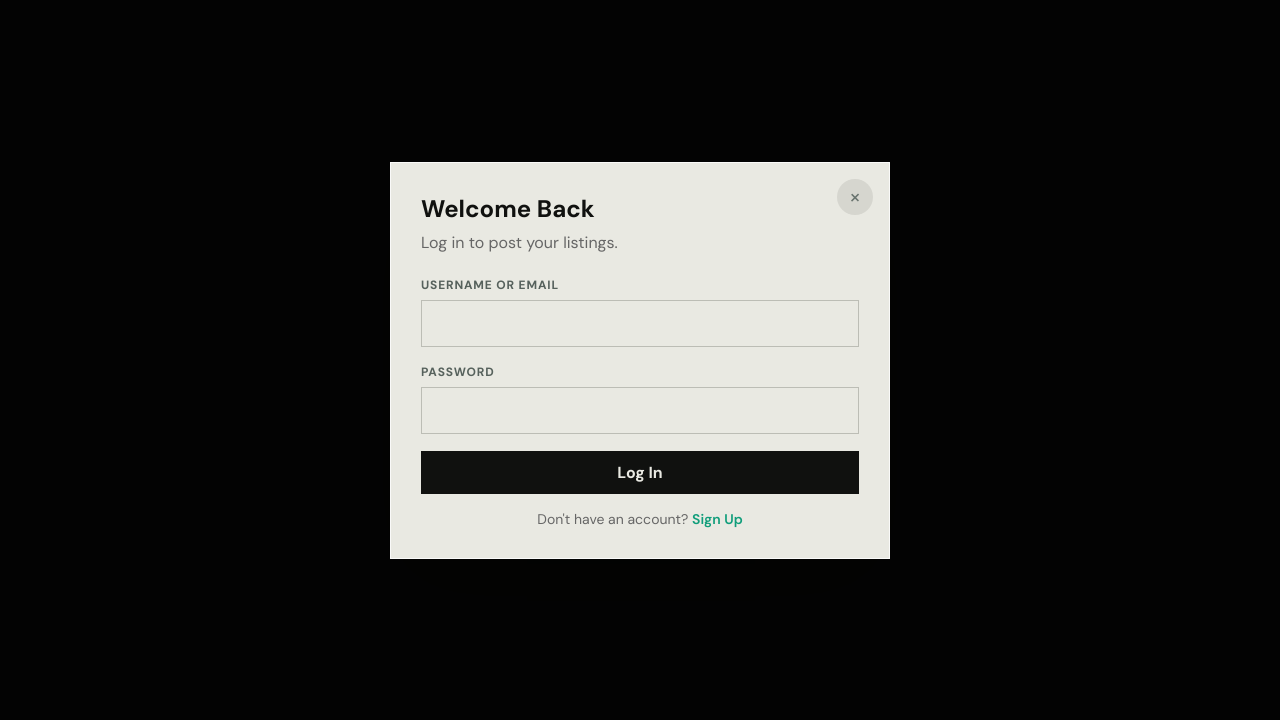
Scenario: authentication UI › exposes an accessible login dialog and displays the server error
This screenshot has width=1280, height=720.
Expected: the dialog "Welcome Back" is shown, [390, 162, 890, 558]
Type "unknown" into the field labelled "Username or email" at (640, 323), box [421, 300, 859, 346]
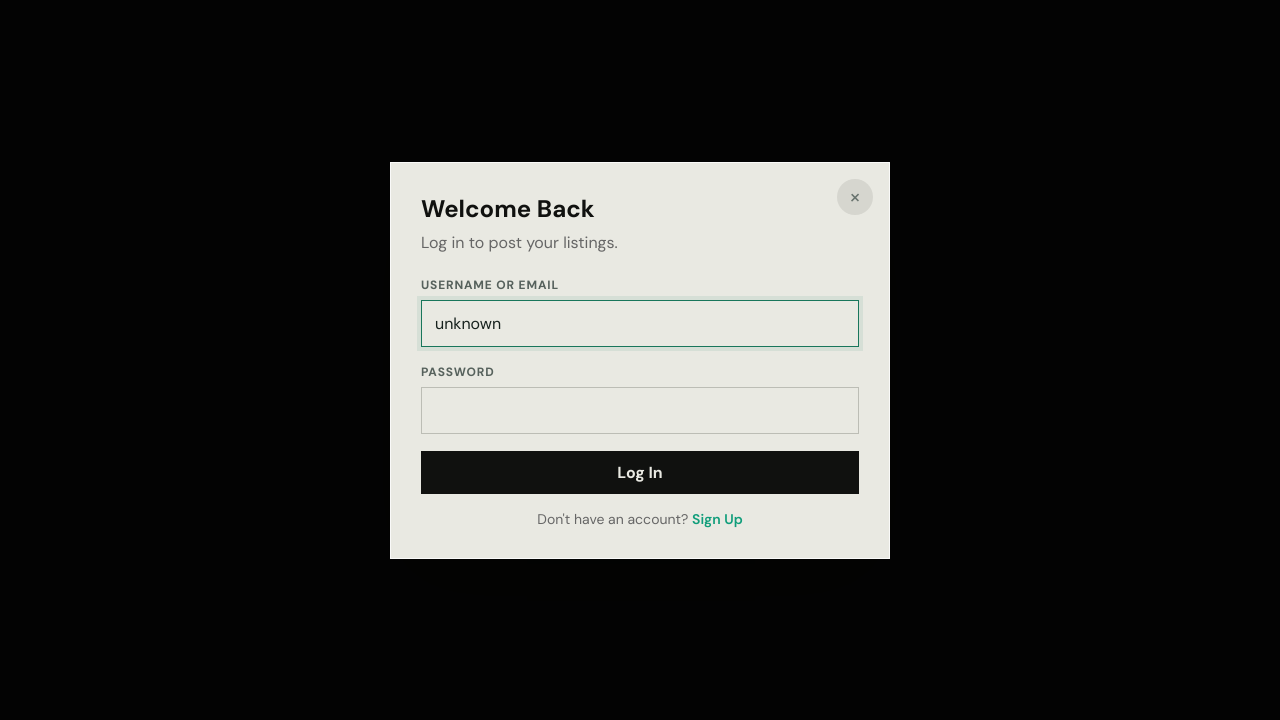
Type "incorrect-password" into the password field labelled "Password" at (640, 410), box [421, 386, 859, 434]
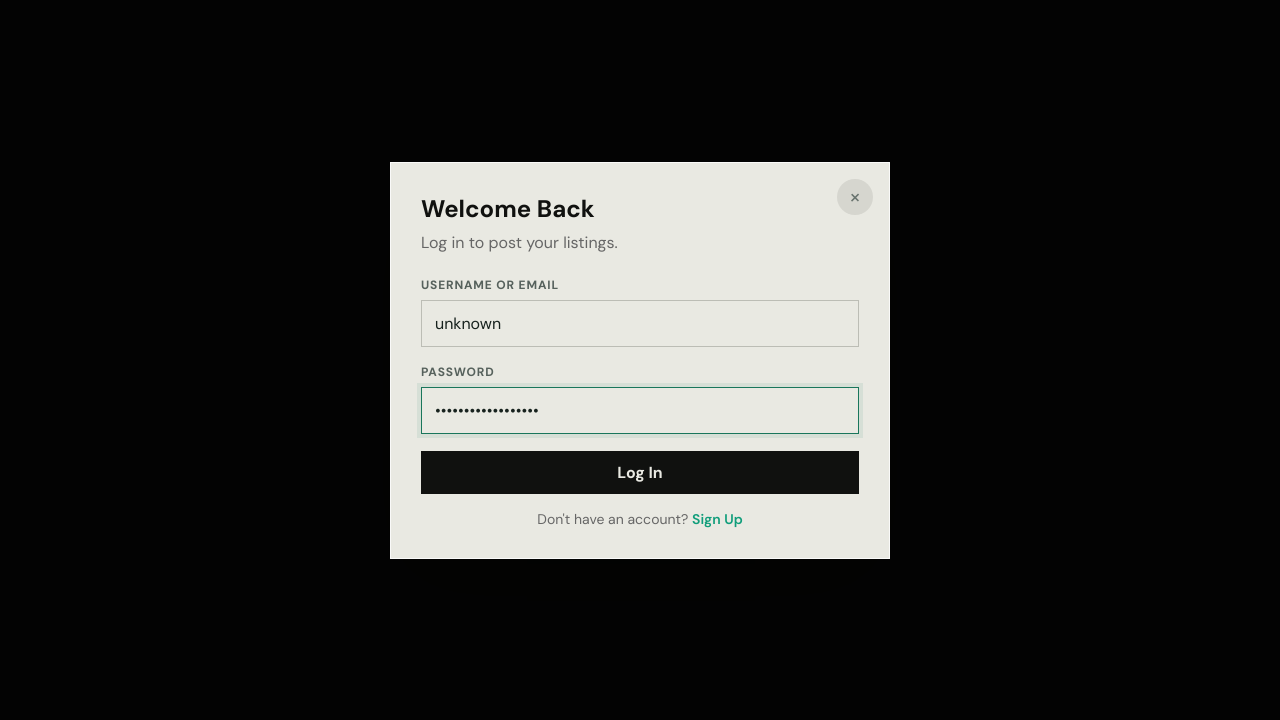
Click the button "Log In" at (640, 472), box [421, 450, 859, 494]
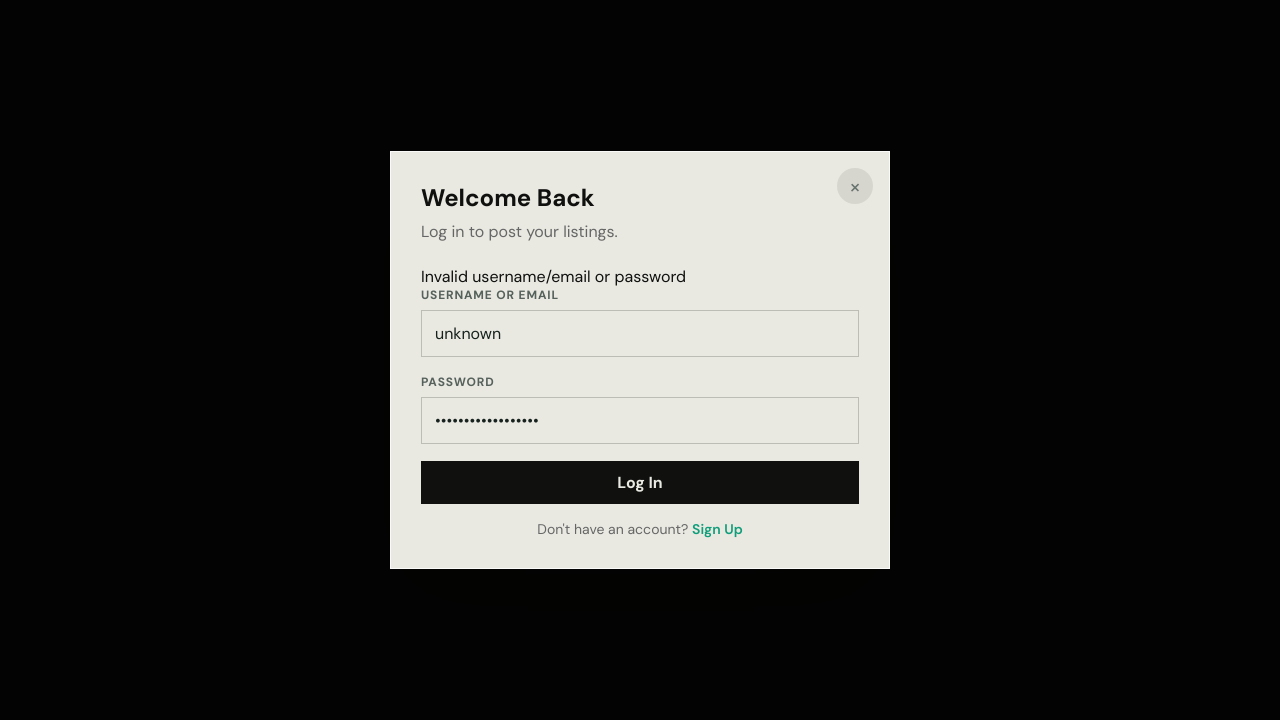
Expected: the message reads "Invalid username/email or password", [421, 266, 686, 287]
